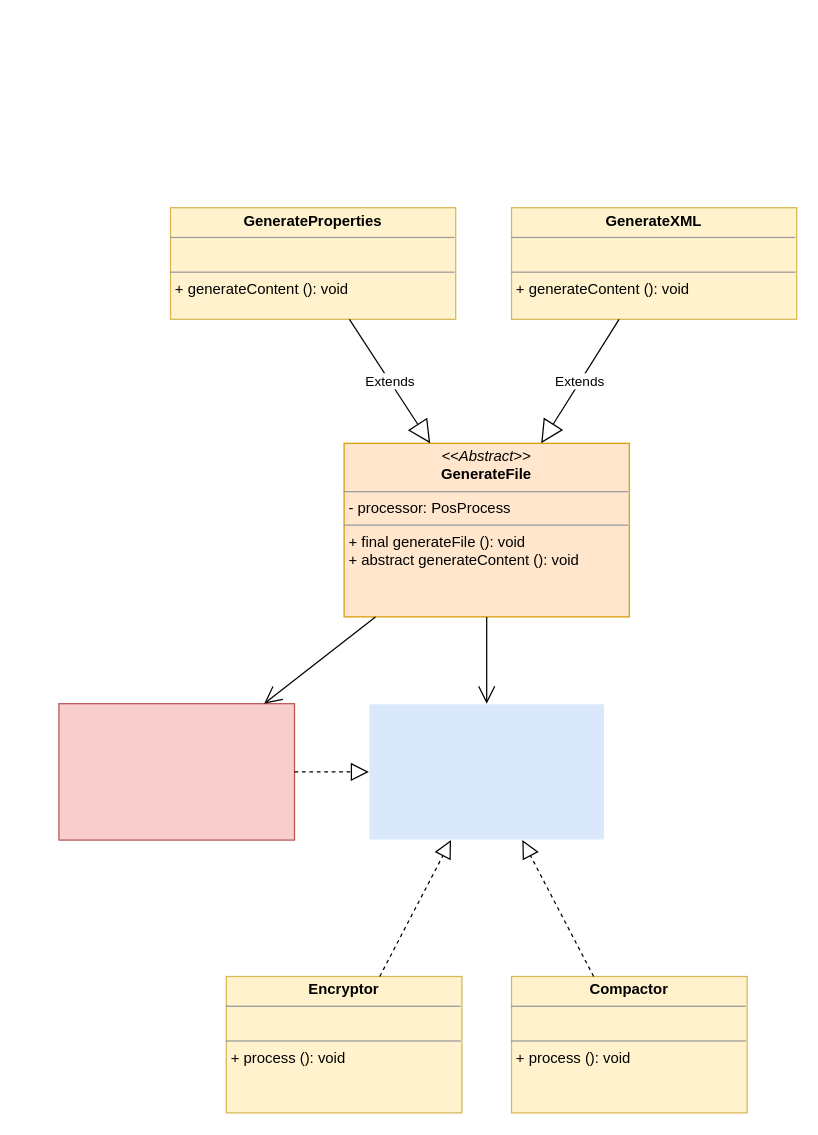
Some shapes in this 818 by 1135 pixel diagram are drawn without their labels. Here are the shapes that lost their labels. From the top down, the centre of each, then its label:
the point at 176,771: NullProcessor + process (): void
the point at 486,771: <<Interface>> PosProcessor + process (): void
